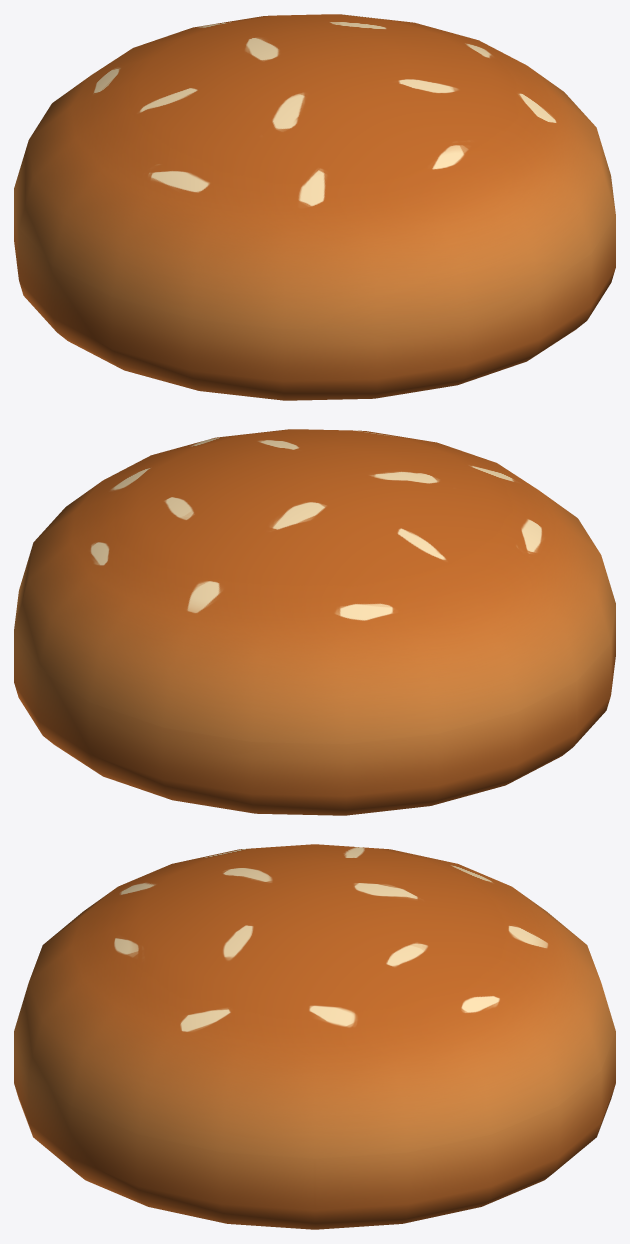
Rendered from MD_Buns_Top.fbx.
The picture shows the model from 3 angles, top to bottom: view 1: azimuth 30°, elevation 25°; view 2: azimuth 150°, elevation 25°; view 3: azimuth 270°, elevation 25°; orthographic projection.
Parts seen in each view (by area): view 1: pCylinder1; view 2: pCylinder1; view 3: pCylinder1.
Part boxes in pixels (<box>): pCylinder1: <box>14,14,615,400</box>; pCylinder1: <box>14,429,615,815</box>; pCylinder1: <box>14,844,615,1229</box>.
Bounding box in the file's own units: 2 × 0.8032 × 2.
